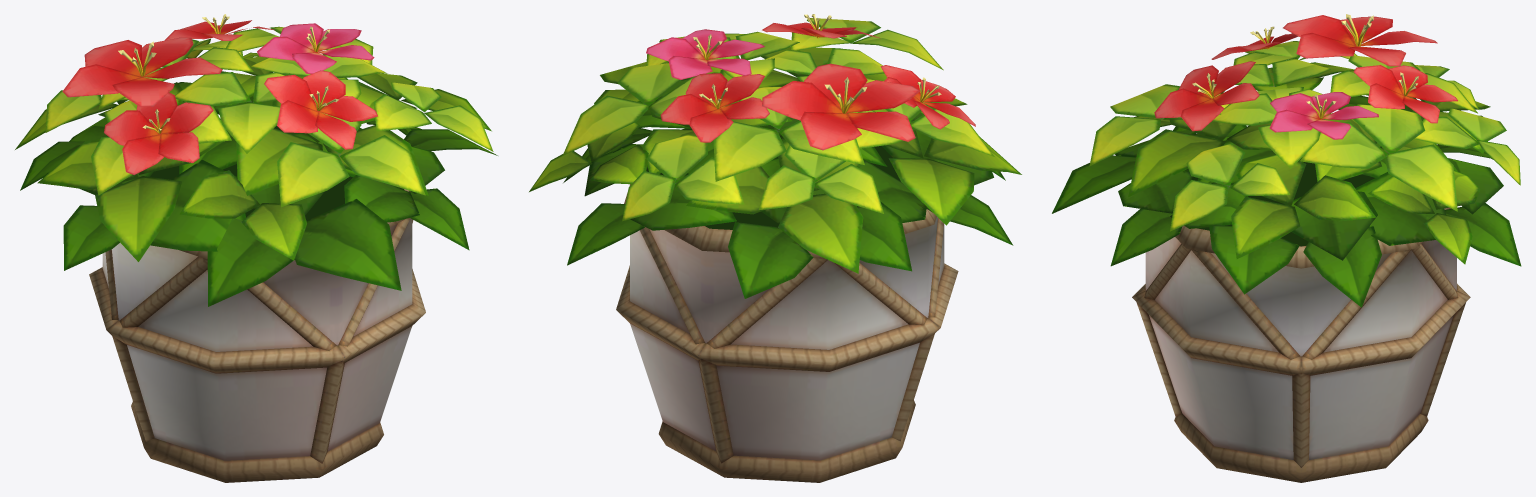
Rendered from my_sunshineresort_01_plantpot_01.glb.
3 views of the same model, side by side, from view 1: azimuth 30°, elevation 25°; view 2: azimuth 150°, elevation 25°; view 3: azimuth 270°, elevation 25° (orthographic). The views are drawn at different scales.
Visible parts, largest first — view 1: my_sunshineresort_01_plantpot_01; view 2: my_sunshineresort_01_plantpot_01; view 3: my_sunshineresort_01_plantpot_01.
Part boxes in pixels (x1=…): my_sunshineresort_01_plantpot_01: x1=15, y1=14, x2=497, y2=482; my_sunshineresort_01_plantpot_01: x1=529, y1=14, x2=1021, y2=482; my_sunshineresort_01_plantpot_01: x1=1052, y1=14, x2=1521, y2=482.
Size of the model in its own units: 0.00408 by 0.00356 by 0.00407.
Materials: 1 (1 with a texture image).
